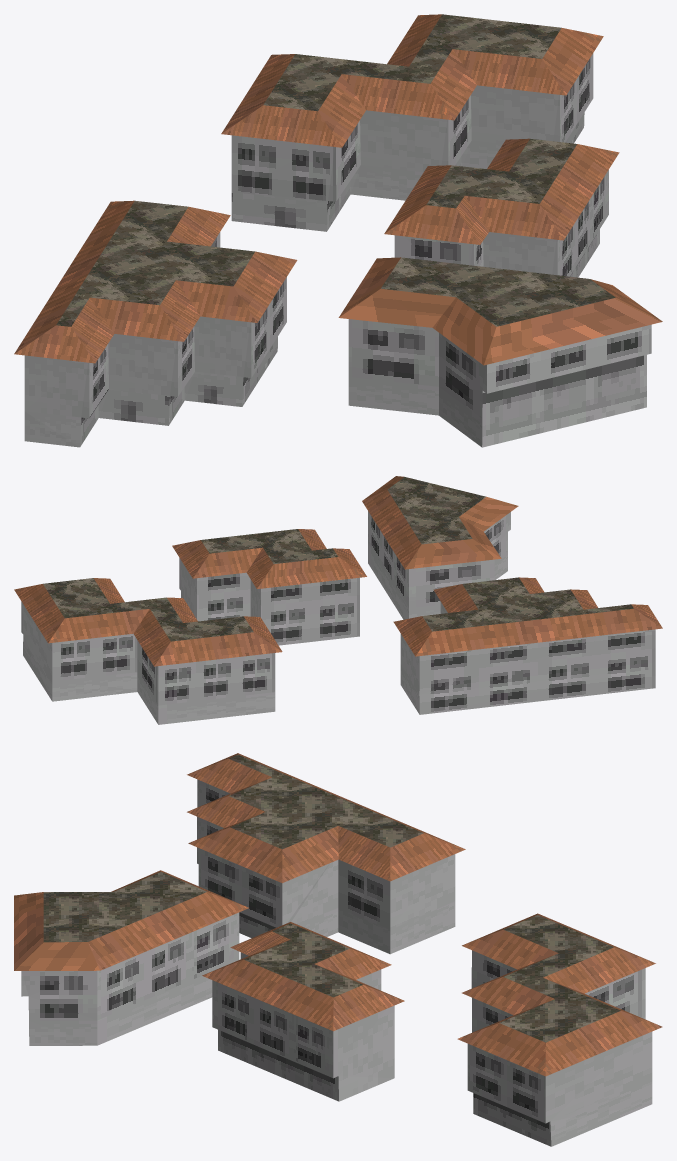
Rendered from lodidleproj02.obj.
The picture shows the model from 3 angles, top to bottom: view 1: azimuth 30°, elevation 25°; view 2: azimuth 150°, elevation 25°; view 3: azimuth 270°, elevation 25°; orthographic projection. The views are drawn at different scales.
Parts seen in each view (by area): view 1: LODIdleProj02; view 2: LODIdleProj02; view 3: LODIdleProj02.
Boxes of the visible parts, x1,y1,x2,y2 form: LODIdleProj02: (14,14,662,447); LODIdleProj02: (14,476,662,724); LODIdleProj02: (14,753,662,1146).
Size of the model in its own units: 94.44 by 12.83 by 80.08.
Materials: 2 (2 with a texture image).
